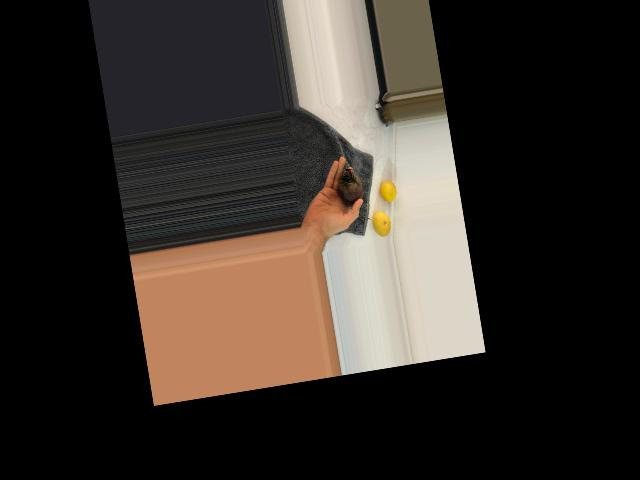beet: (334, 166, 370, 224)
